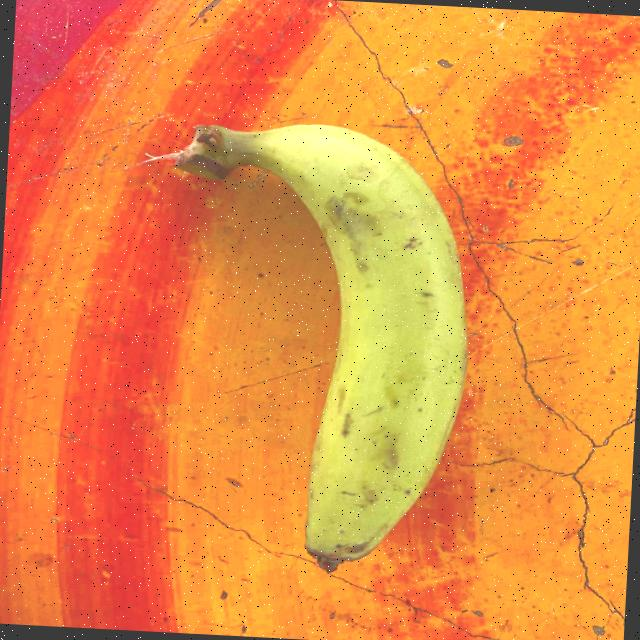Raw: (93, 104, 572, 616)
